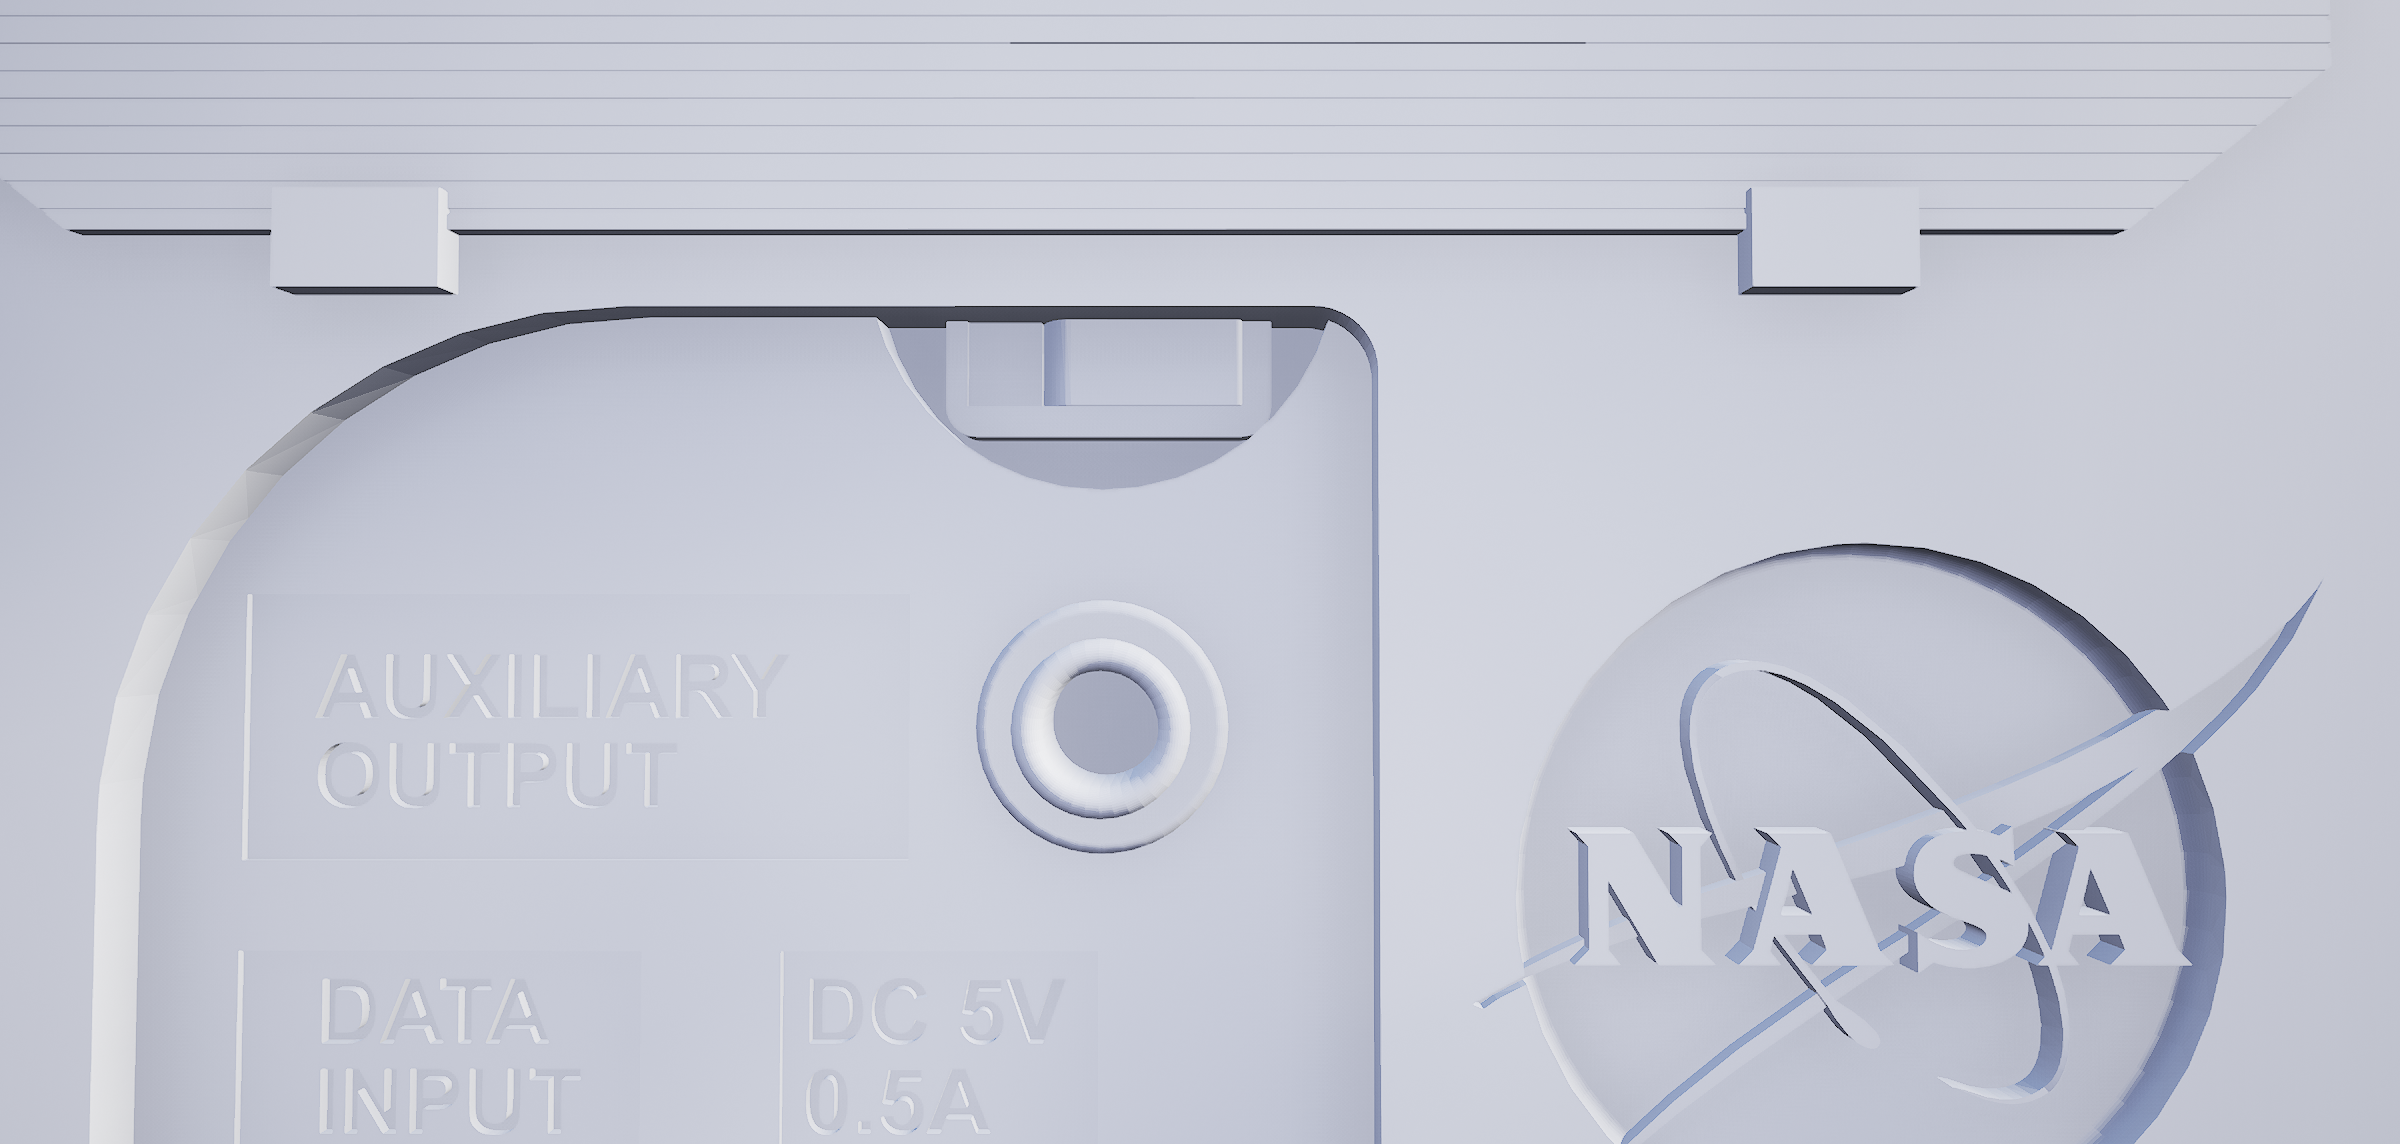aux: (960, 580, 1277, 896)
